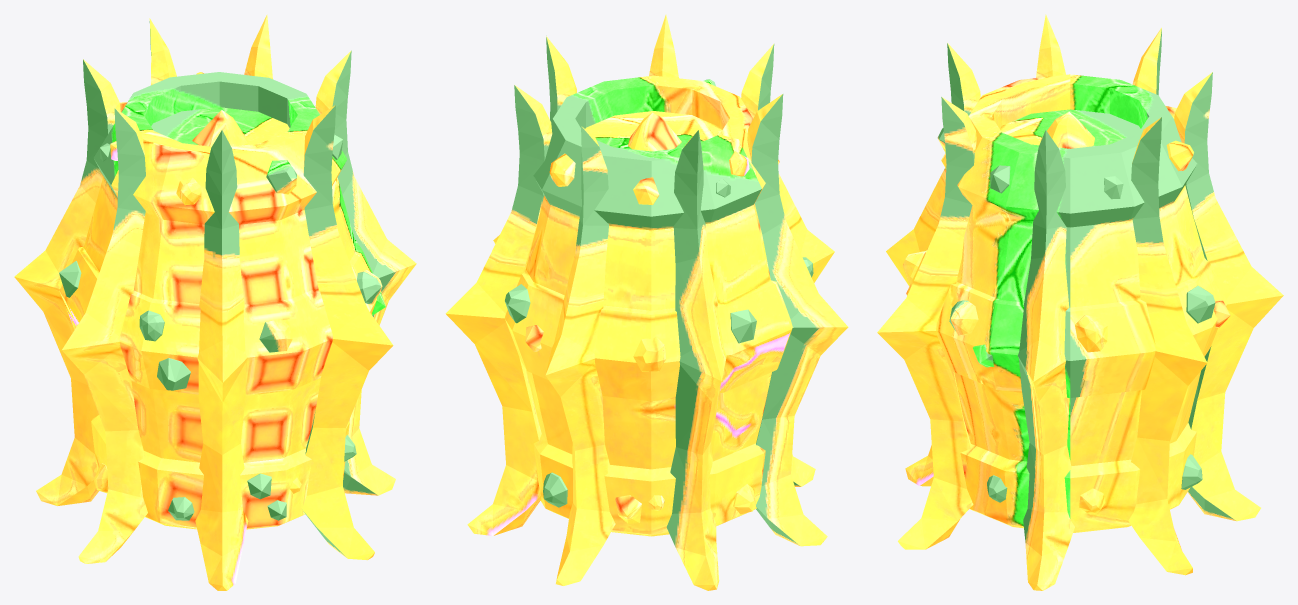
The model's file is Barrel.fbx.
3 views of the same model, side by side, from view 1: azimuth 30°, elevation 25°; view 2: azimuth 150°, elevation 25°; view 3: azimuth 270°, elevation 25° (orthographic).
Visible parts, largest first — view 1: Dn_HL_Barrel_A.mo; view 2: Dn_HL_Barrel_A.mo; view 3: Dn_HL_Barrel_A.mo.
Boxes of the visible parts, left/top/right/bottom form: Dn_HL_Barrel_A.mo: left=14, top=14, right=416, bottom=590; Dn_HL_Barrel_A.mo: left=445, top=14, right=848, bottom=590; Dn_HL_Barrel_A.mo: left=877, top=14, right=1283, bottom=590.
Bounding box in the file's own units: 144 × 172 × 143.
